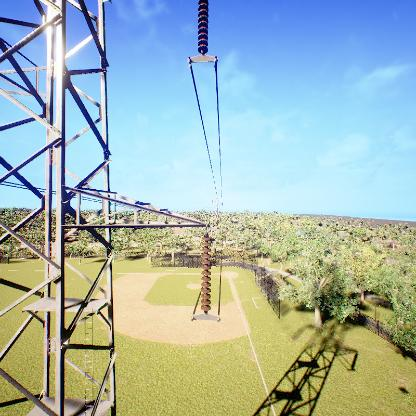insulator: (199, 233, 212, 314), (196, 1, 210, 55)
